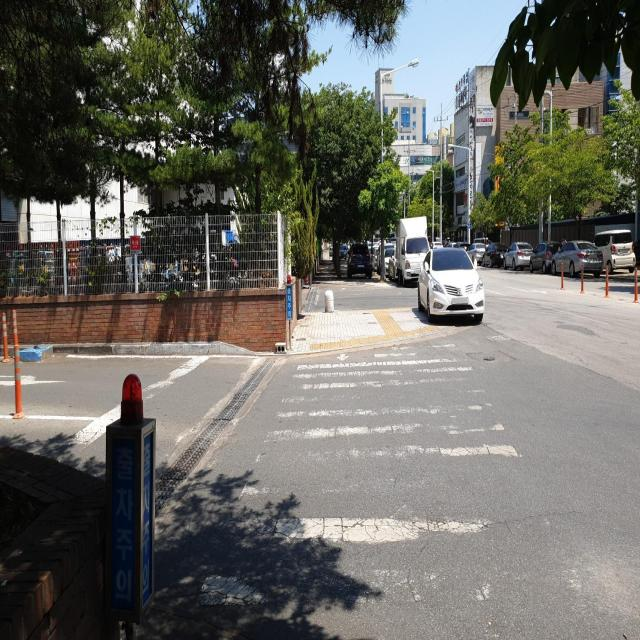횡단보도: (193, 342, 585, 613)
